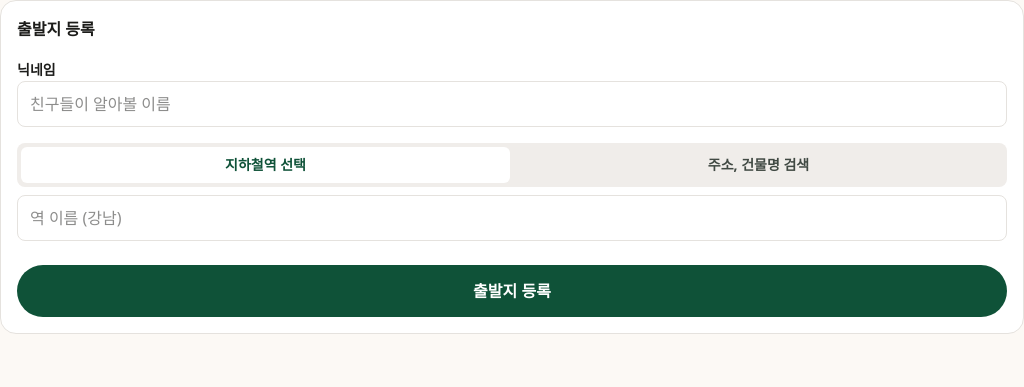
닉네임과 출발지가 없으면 요청하지 않는다
Click the button "출발지 등록": (512, 291) [17, 265, 1007, 317]
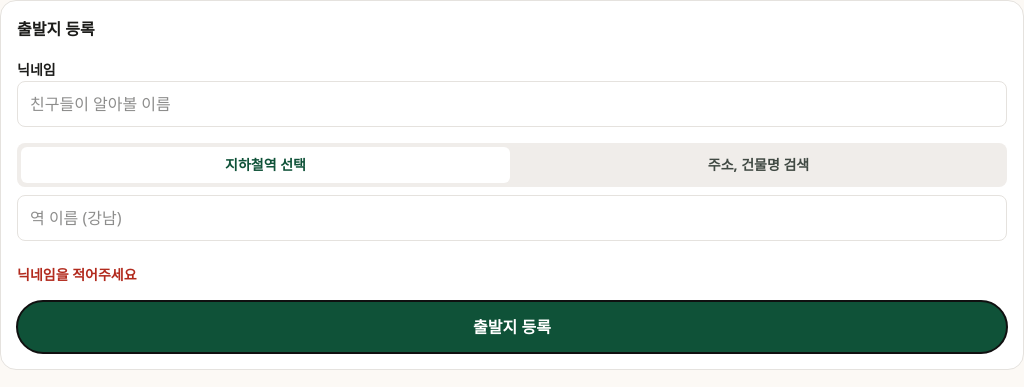
Check: the message reads "닉네임을 적어주세요", box [17, 265, 137, 284]
In the field labelled "닉네임": (512, 104) [17, 81, 1007, 127], type "민수"
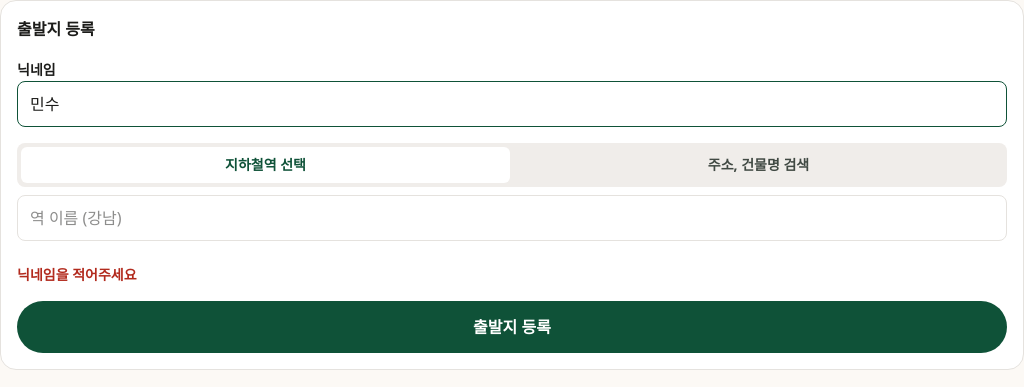
Click the button "출발지 등록": (512, 327) [17, 301, 1007, 353]
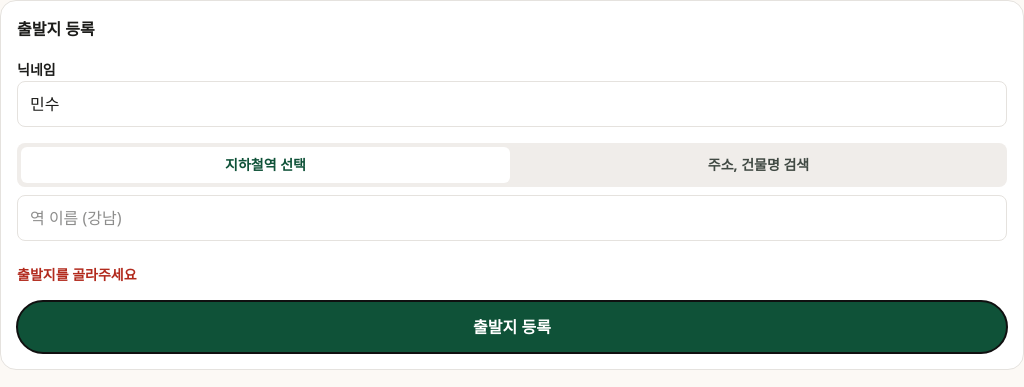
Check: the message reads "출발지를 골라주세요", box [17, 265, 137, 284]
